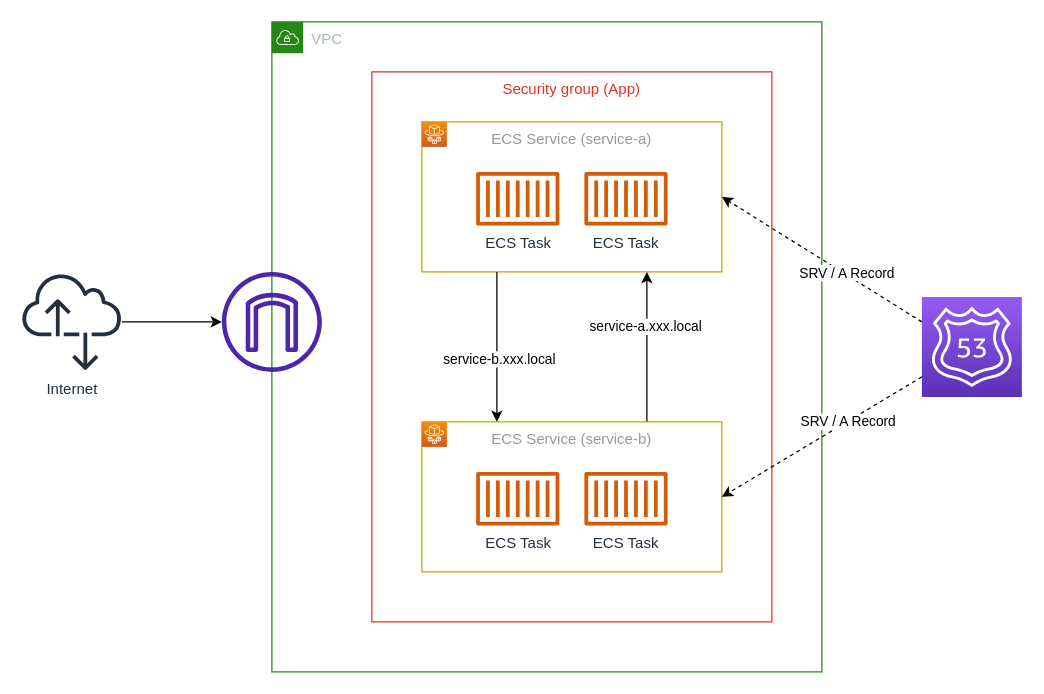
Some shapes in this 1044 by 694 pixel diagram are drawn without their labels. Here are the shapes that lost their labels. From the top down, the centre of each, then its label:
point (271, 321): Internet Gateway
point (971, 346): Route 53
